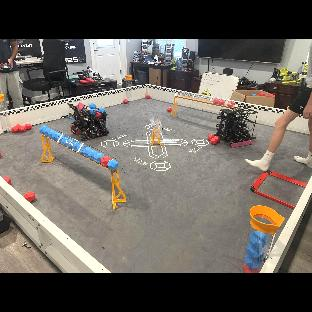V5_BLUE: (87, 102, 97, 110), (88, 107, 95, 115), (100, 107, 106, 112), (251, 93, 257, 98)
V5_RED: (22, 190, 37, 202), (1, 177, 15, 187), (10, 127, 19, 134), (206, 133, 214, 140), (166, 106, 173, 113), (215, 136, 221, 143), (19, 127, 27, 132), (25, 124, 33, 129), (209, 139, 217, 144), (96, 112, 102, 118), (258, 92, 265, 97), (15, 123, 20, 128), (145, 94, 150, 99), (123, 99, 128, 104), (0, 150, 3, 158)
blueingoal: (108, 159, 117, 170), (83, 147, 92, 157), (76, 144, 85, 153), (95, 154, 103, 162), (73, 141, 80, 149), (52, 132, 60, 139), (38, 125, 47, 131), (89, 151, 95, 159), (68, 139, 73, 148), (62, 137, 68, 144), (49, 130, 55, 137), (59, 135, 64, 142), (45, 128, 50, 134)
blueinloader: (250, 229, 268, 249), (242, 255, 263, 271), (245, 244, 266, 256)
redingoal: (101, 155, 110, 166), (226, 100, 234, 108), (219, 98, 224, 106), (213, 97, 218, 104)
redloader: (242, 264, 257, 273)
